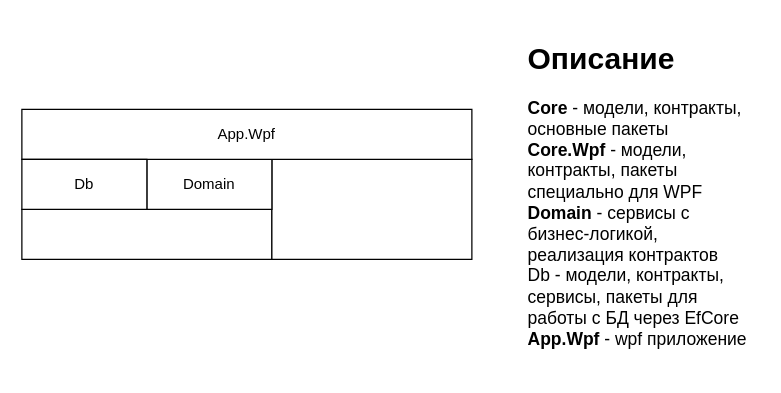
Image size: 781x393. Some labels were removed from this diagram. Here are the shapes that lost their labels. From the top down, the centre of each, then its label:
At point 371,208: "Core.Wpf".
At point 146,233: "Core".
